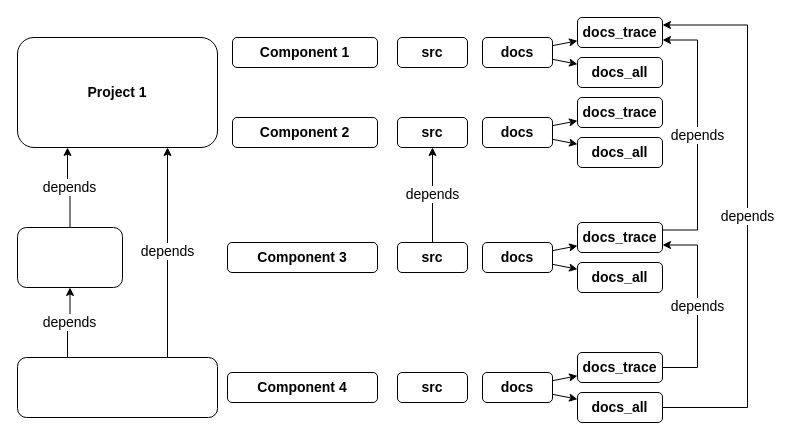
Some shapes in this 792 by 440 pixel diagram are drawn without their labels. Here are the shapes that lost their labels. From the top down, the centre of each, then its label:
point (69, 257): Project 2
point (117, 387): Project 3 (Integration)
